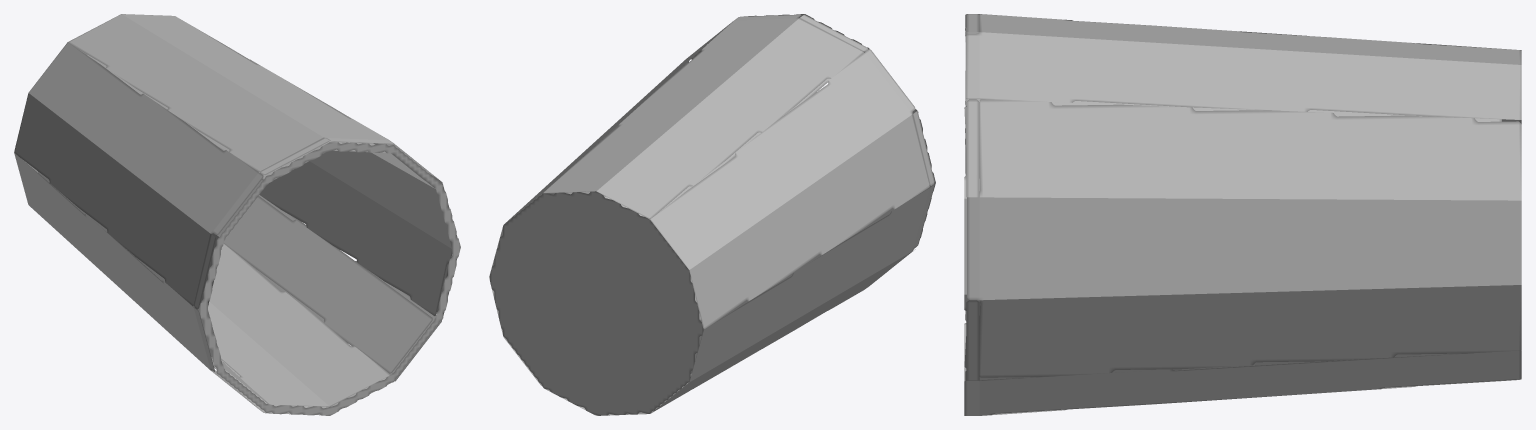
File: pz_trashbin_green.obj
3 renders of one model, left to right at view 1: azimuth 30°, elevation 25°; view 2: azimuth 150°, elevation 25°; view 3: azimuth 270°, elevation 25°, orthographic. The views are drawn at different scales.
Parts seen in each view (by area): view 1: pz_trashbin_green_|_open_tapered_trash_body; view 2: pz_trashbin_green_|_open_tapered_trash_body; view 3: pz_trashbin_green_|_open_tapered_trash_body.
Part boxes in pixels (x1,y1,x2,y2): pz_trashbin_green_|_open_tapered_trash_body: [14, 14, 460, 415]; pz_trashbin_green_|_open_tapered_trash_body: [489, 14, 935, 415]; pz_trashbin_green_|_open_tapered_trash_body: [964, 14, 1521, 415].
Bounding box in the file's own units: 0.364 × 0.364 × 0.503.
Materials: 1 (1 with a texture image).
